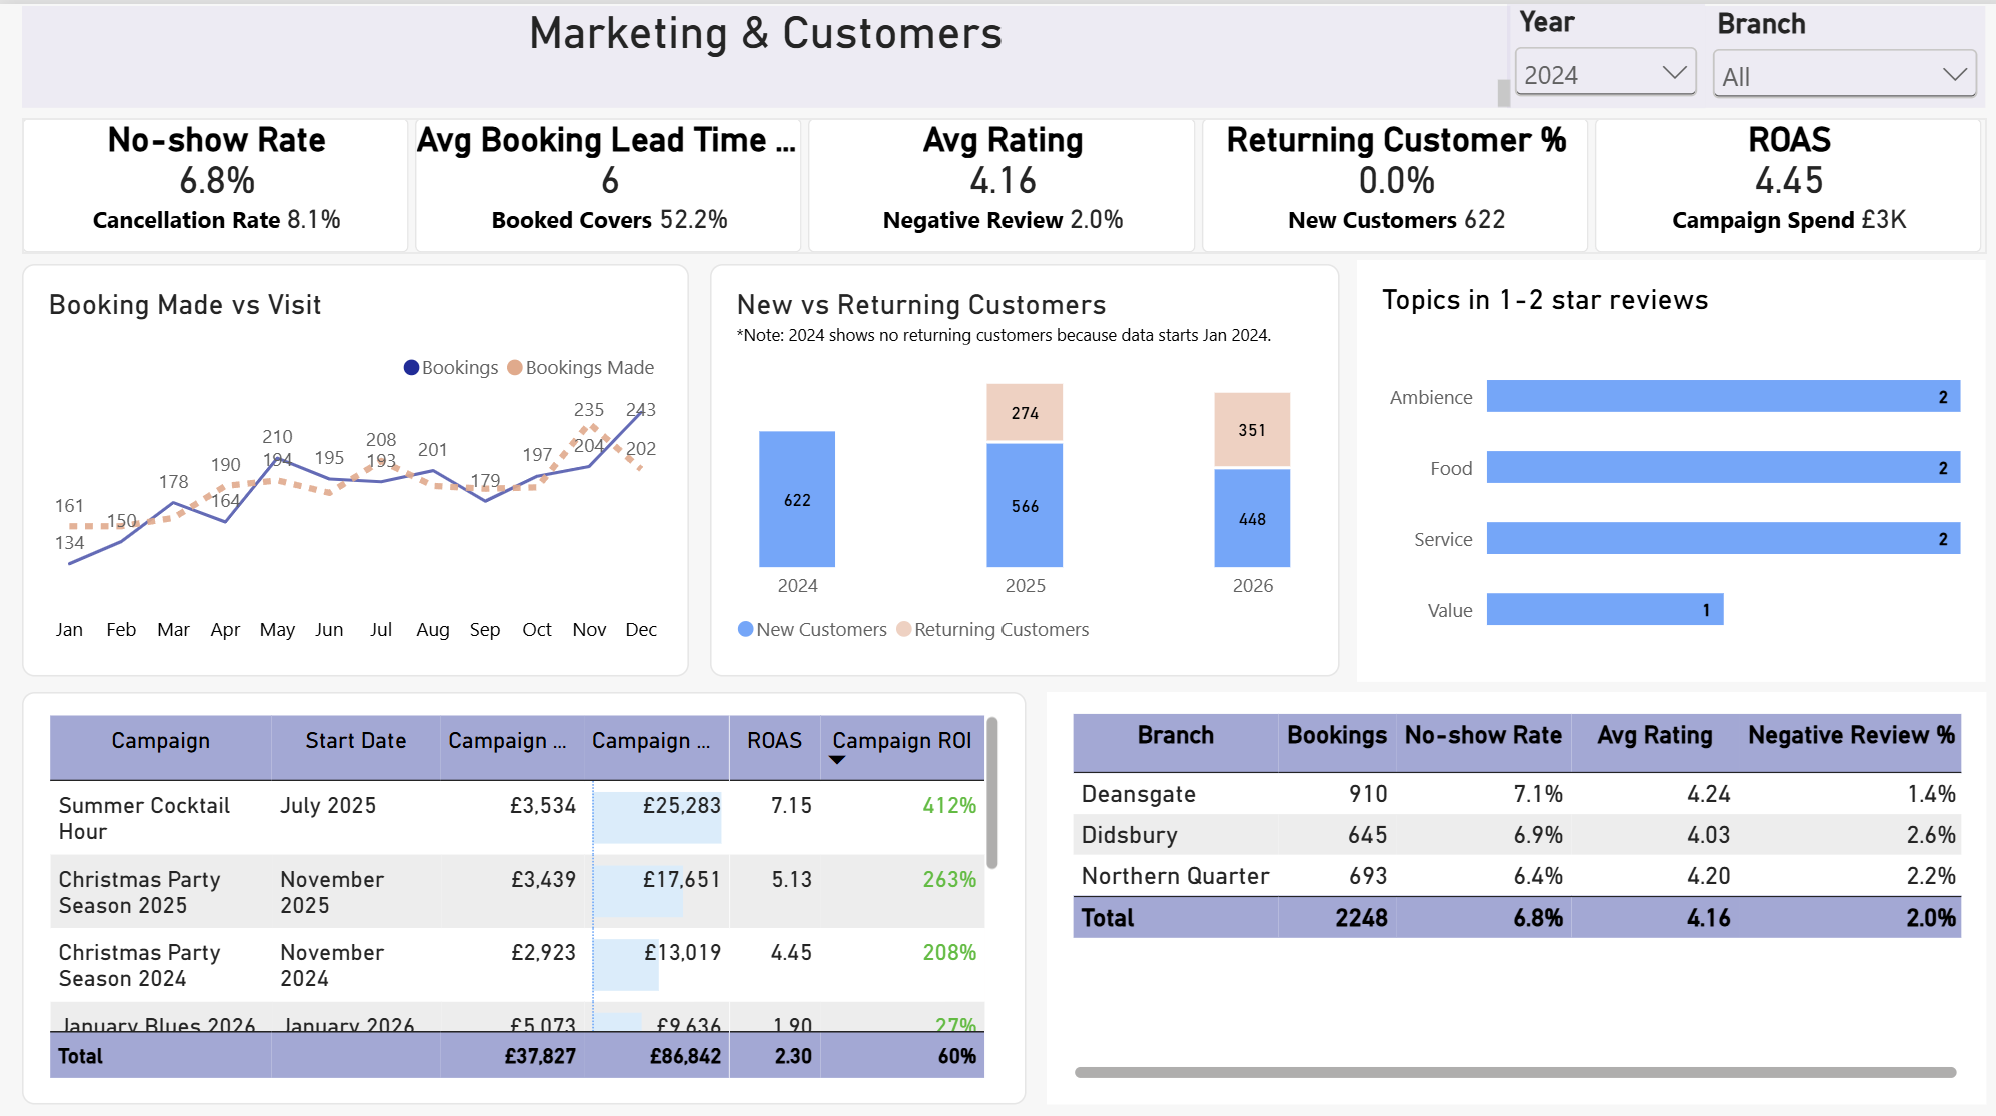

The page's visual inventory and layout, read from the dashboard file:
{"tool":"powerbi","page":{"name":"Marketing & Customers","canvas":[1280,720],"ordinal":2},"visuals":[{"type":"slicer","fields":{"Values":["dim_date.year"]},"box":[962.1,0,126.2,66.2],"z":0},{"type":"slicer","fields":{"Values":["dim_branch.branch_name"]},"box":[1087.9,1.5,178.8,65.2],"z":1000},{"type":"tableEx","title":"Orders by Day and Hour","fields":{"Values":["dim_branch.branch_name","_Measures.Bookings","_Measures.No-show Rate","_Measures.Avg Rating","_Measures.Negative Review %"]},"box":[668.2,439.4,600,263.6],"z":2000},{"type":"tableEx","title":"Net Sales vs Last Year","fields":{"Values":["dim_campaign.campaign_name","dim_campaign.start_date","_Measures.Campaign Spend","_Measures.Campaign Sales","_Measures.ROAS","_Measures.Campaign ROI"]},"box":[13.6,439.4,640.9,263.6],"z":3000},{"type":"lineChart","title":"Booking Made vs Visit","fields":{"Category":["dim_date.month_short"],"Y":["_Measures.Bookings","_Measures.Bookings Made"]},"box":[13.6,166.7,425.8,263.6],"z":4000},{"type":"cardVisual","fields":{"Data":["_Measures.No-show Rate","_Measures.Avg Booking Lead Time (days)","_Measures.Avg Rating","_Measures.Returning Customer %","_Measures.ROAS"]},"box":[13.6,72.7,1254.5,86.4],"z":5000},{"type":"textbox","title":"Marketing & Customers","box":[13.6,1.5,950,65.2],"z":6000},{"type":"clusteredBarChart","title":"Topics in 1-2 star reviews","fields":{"Category":["fact_reviews.main_topic"],"Y":["_Measures.Review Count"]},"box":[866.7,163.6,401.5,269.7],"z":7000},{"type":"columnChart","title":"New vs Returning Customers","fields":{"Category":["dim_date.year"],"Y":["_Measures.New Customers","_Measures.Returning Customers"]},"box":[453,166.7,401.5,263.6],"z":8000}]}

Visuals, with their boxes in screenshot pixels (x1, y1, x2, y2), scaled from the page's 1280x720 canvas onto the 1996x1116 screenshot:
slicer - dim_date.year: select_region(1500, 0, 1697, 103)
slicer - dim_branch.branch_name: select_region(1696, 2, 1975, 103)
"Orders by Day and Hour" tableEx: select_region(1042, 681, 1978, 1090)
"Net Sales vs Last Year" tableEx: select_region(21, 681, 1021, 1090)
"Booking Made vs Visit" lineChart: select_region(21, 258, 685, 667)
cardVisual - _Measures.No-show Rate x _Measures.Avg Booking Lead Time (days): select_region(21, 113, 1977, 247)
"Marketing & Customers" textbox: select_region(21, 2, 1503, 103)
"Topics in 1-2 star reviews" clusteredBarChart: select_region(1352, 254, 1978, 672)
"New vs Returning Customers" columnChart: select_region(706, 258, 1332, 667)
